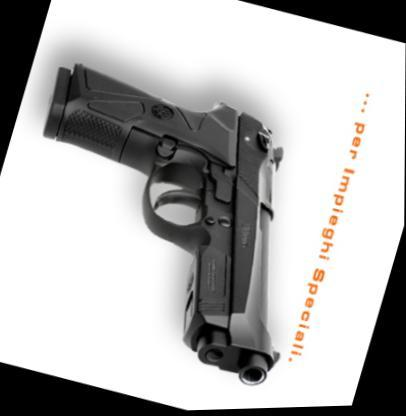pistol: (0, 49, 347, 399)
